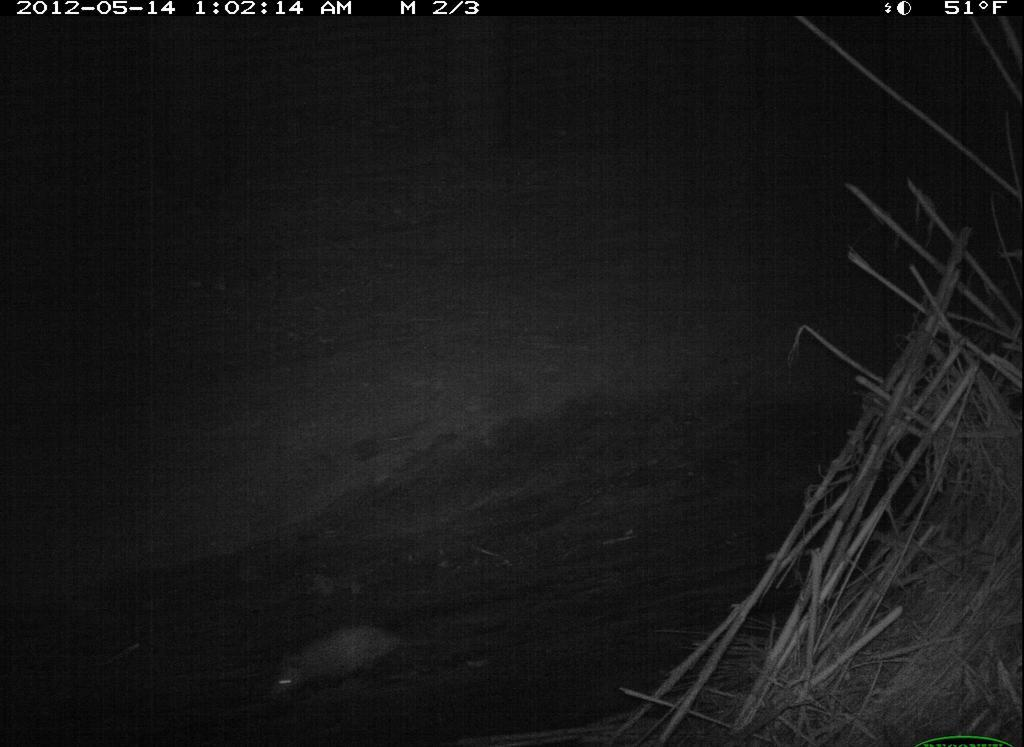opossum: (254, 612, 429, 705)
